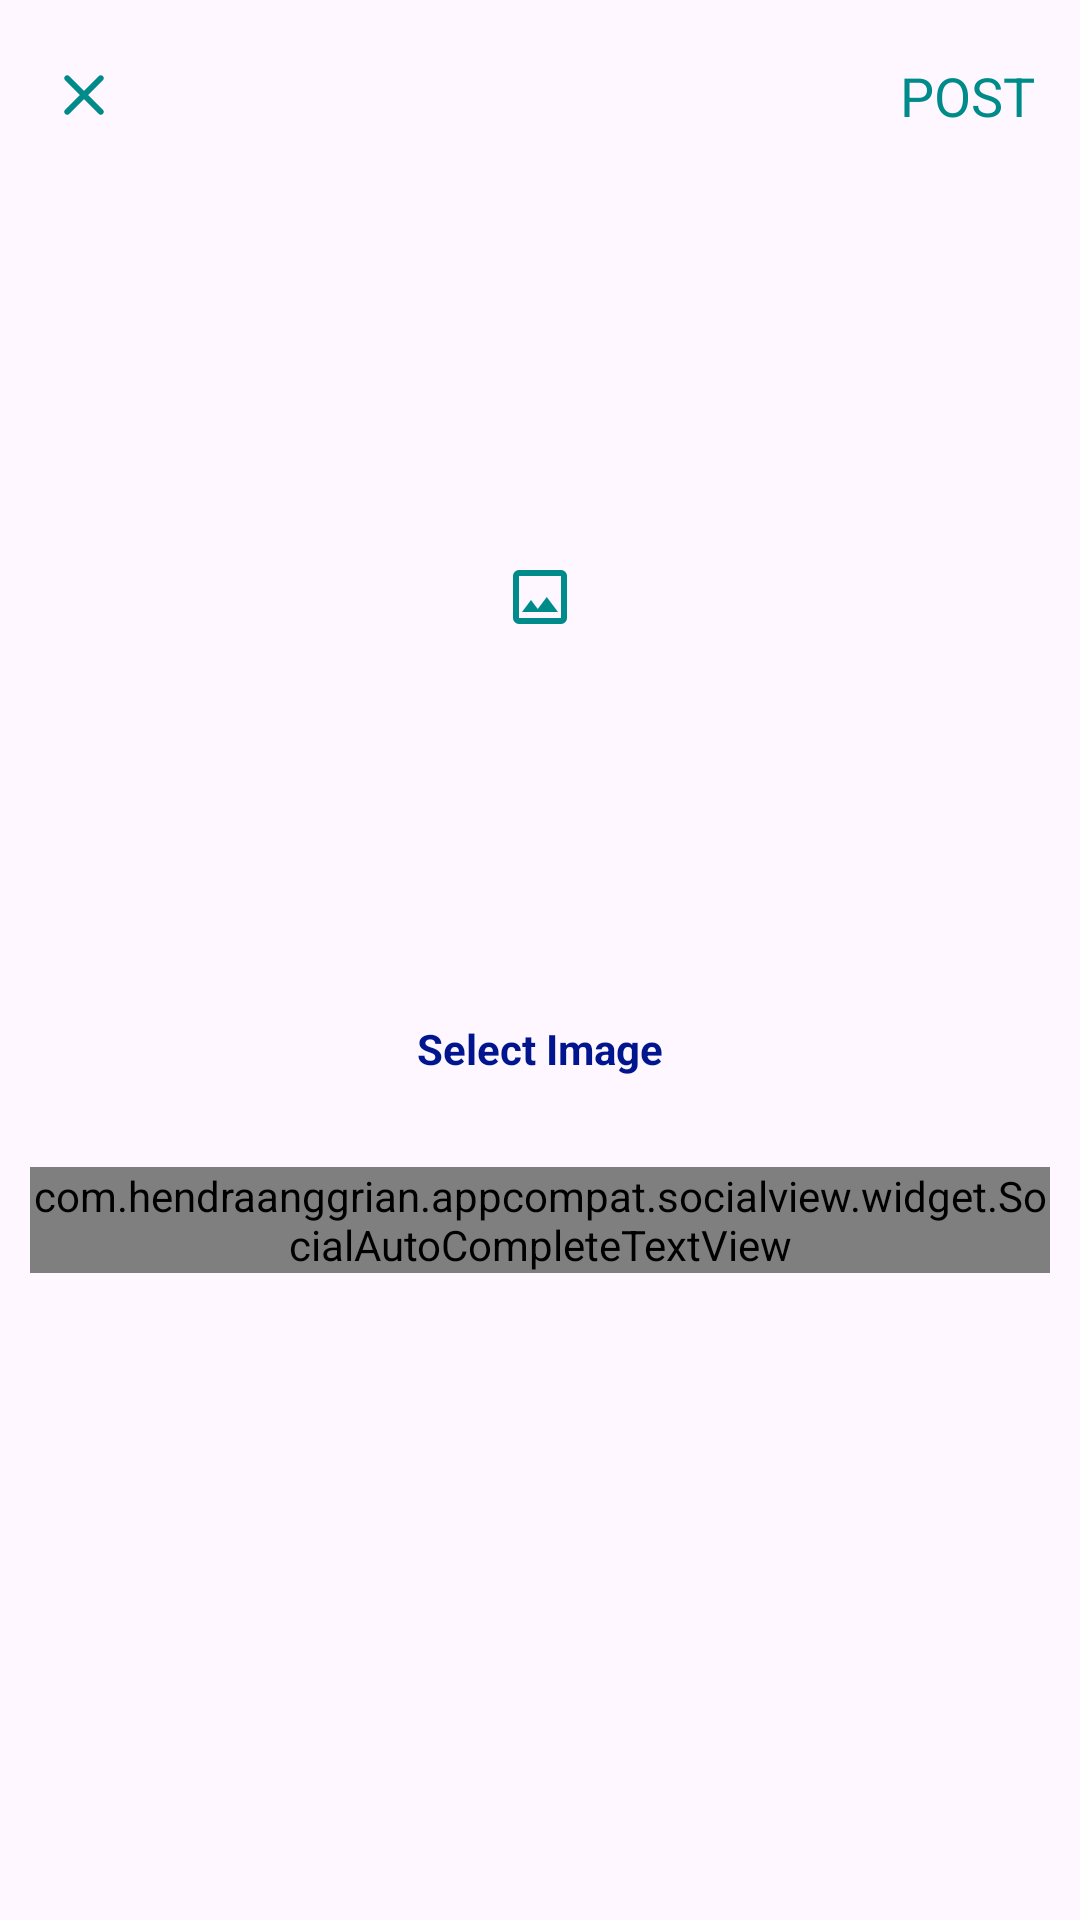

Where to tap for icons on this 1080px×1920px app screen, as [x,y]:
Close Icon: [84,95]
